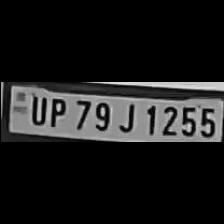1: (138, 102, 158, 136)
2: (157, 103, 177, 137)
5: (178, 103, 196, 137), (198, 104, 216, 138)
7: (67, 97, 89, 130)
9: (89, 98, 111, 132)
J: (114, 100, 138, 134)
P: (45, 96, 67, 128)
U: (25, 94, 45, 126)
